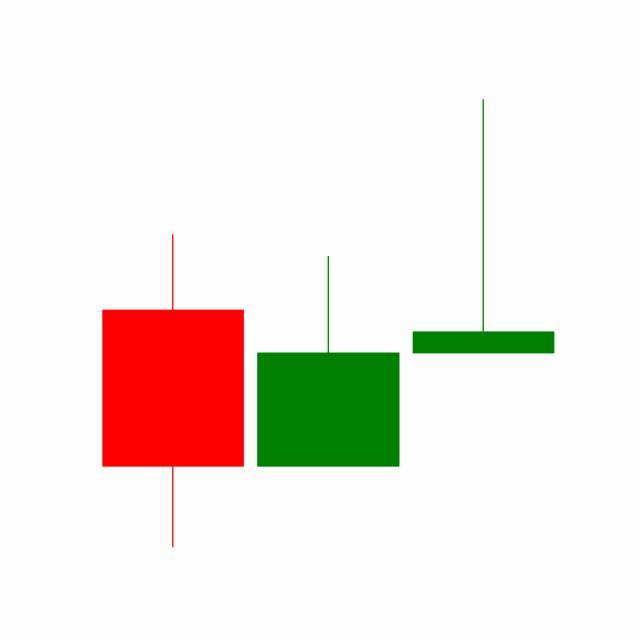Gravestone Doji: (406, 97, 562, 357)
